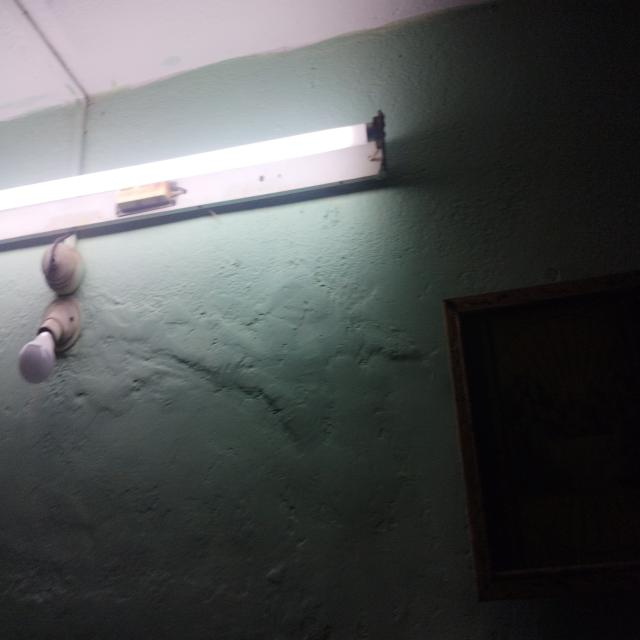tubelight_on: (0, 108, 391, 245)
